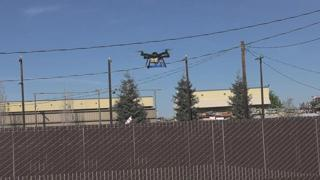UAV: (138, 50, 170, 69)
